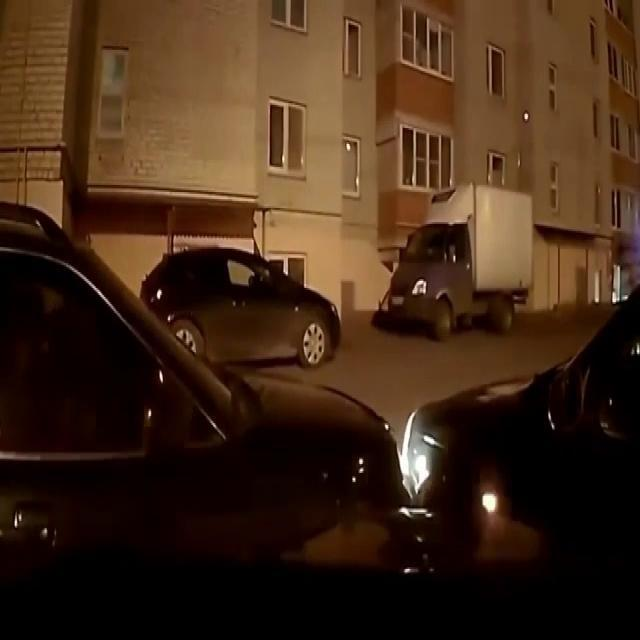moderate: (0, 188, 640, 593)
